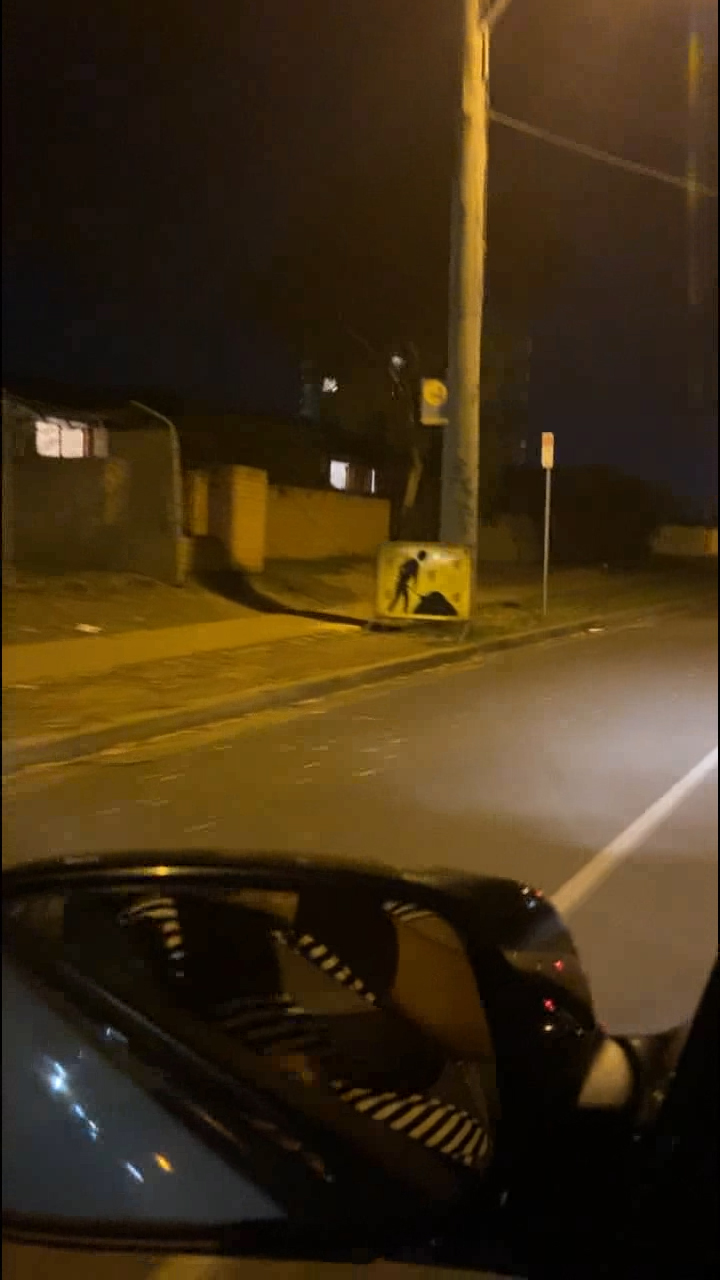road works sign board: (368, 541, 472, 622)
